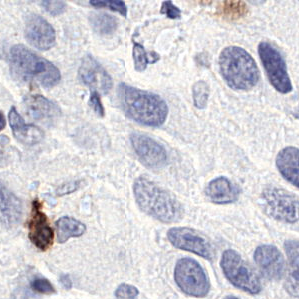Lymphocyte: (24, 199, 55, 250)
